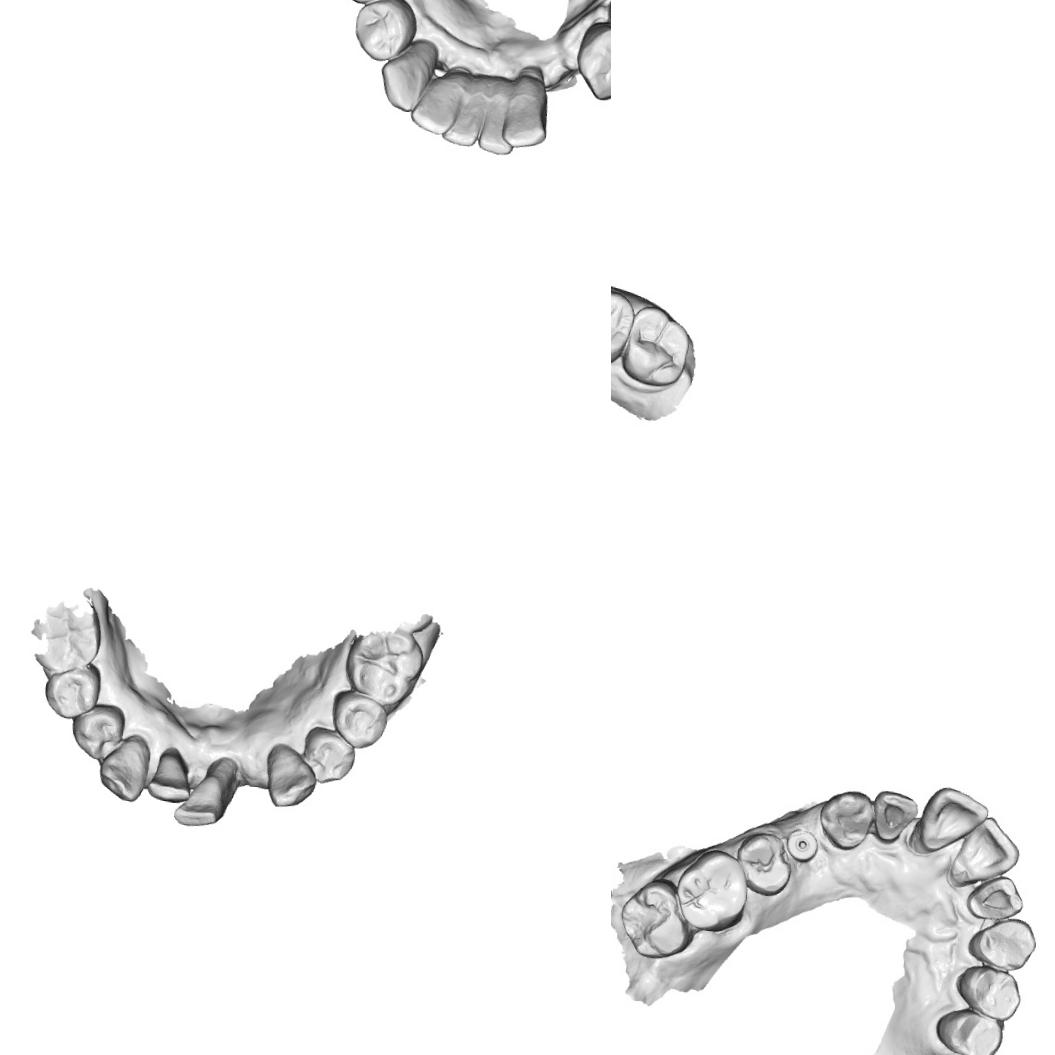canine: (259, 740, 321, 812), (94, 730, 153, 804), (966, 913, 1038, 972), (376, 44, 434, 116), (815, 786, 876, 852)
implant: (784, 827, 818, 864)
incisor: (946, 812, 1023, 891), (916, 784, 990, 856), (407, 72, 466, 137), (169, 769, 227, 831), (440, 84, 491, 150), (499, 88, 551, 152), (474, 86, 518, 158), (146, 742, 195, 805), (964, 872, 1025, 922), (869, 789, 919, 844)
molar: (615, 873, 699, 963), (340, 626, 426, 711), (672, 844, 752, 934), (618, 303, 692, 389), (30, 601, 105, 681), (572, 19, 611, 104), (611, 280, 638, 370)
premolar: (350, 0, 419, 64), (40, 659, 105, 724), (733, 830, 794, 898), (955, 962, 1023, 1023), (326, 689, 390, 752), (297, 722, 358, 788), (66, 700, 126, 766), (931, 1004, 1004, 1055)
